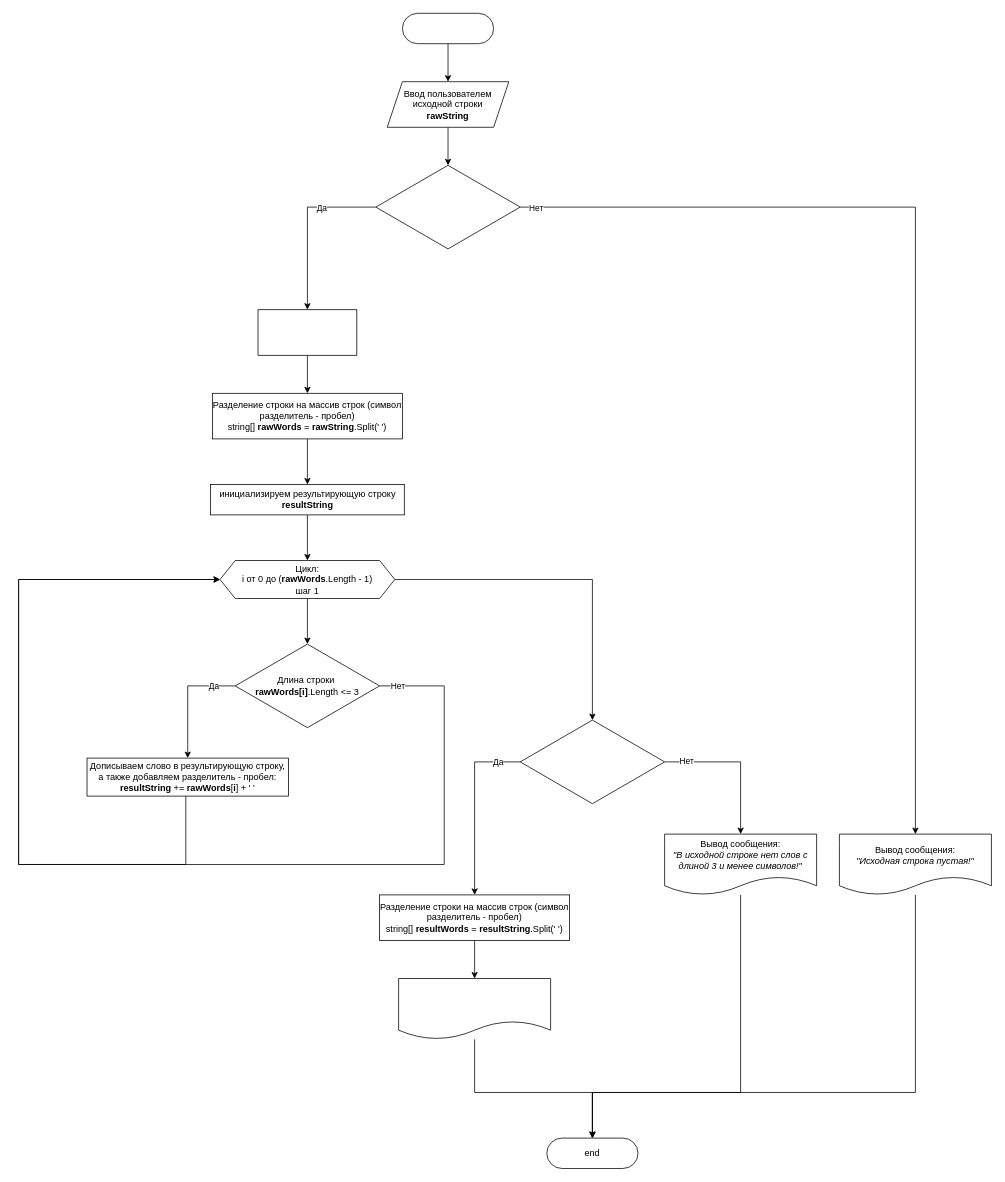
Some shapes in this 1005 by 1182 pixel diagram are drawn without their labels. The box of each missing label's shape, as (x1, y1, x2, y2) in pixels:
start: (402, 13, 494, 44)
Длина строки rawString . Length > 0: (375, 165, 520, 249)
Длина строки resultString . Length > 0: (519, 719, 665, 804)
Печать массива resultWords: (398, 978, 551, 1039)
Удаление из строки rawString знаков препинания и спецсимволов: (257, 309, 357, 355)
